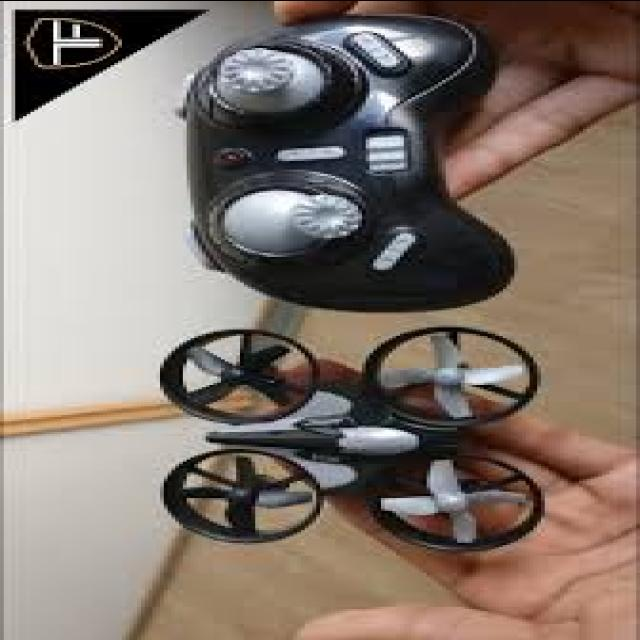drone: (128, 315, 564, 550)
